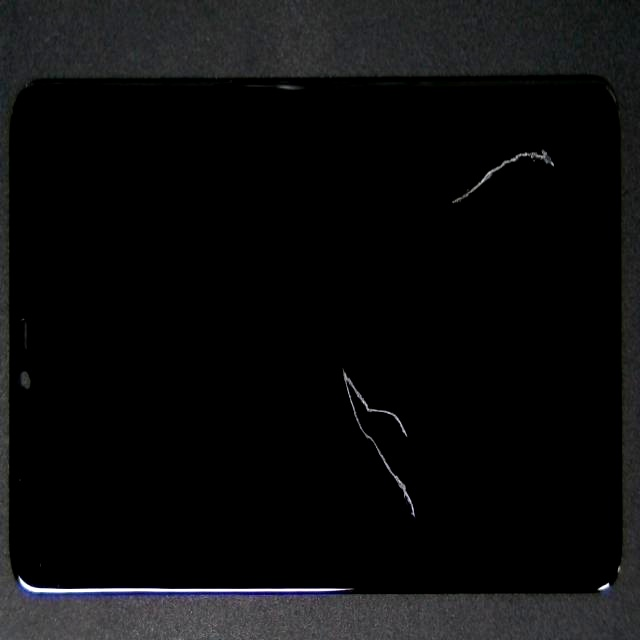scratch: (213, 315, 640, 640), (309, 95, 640, 217)
